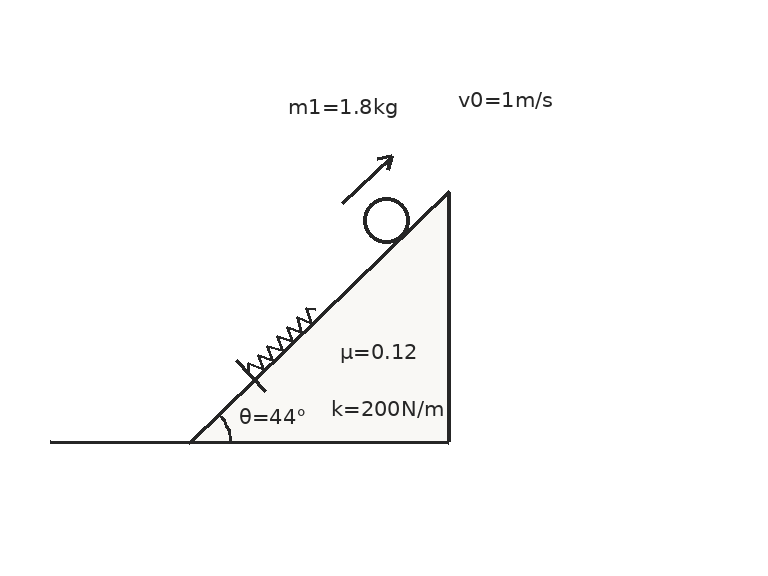ball: (361, 195, 411, 245)
ramp: (188, 191, 450, 444)
spring: (246, 306, 317, 375)
